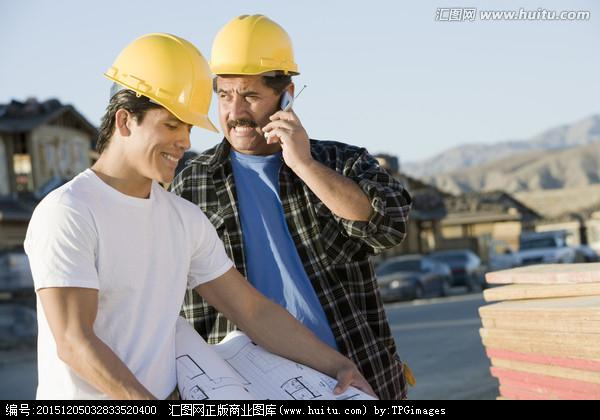helmet: (103, 31, 223, 138), (213, 15, 304, 79)
